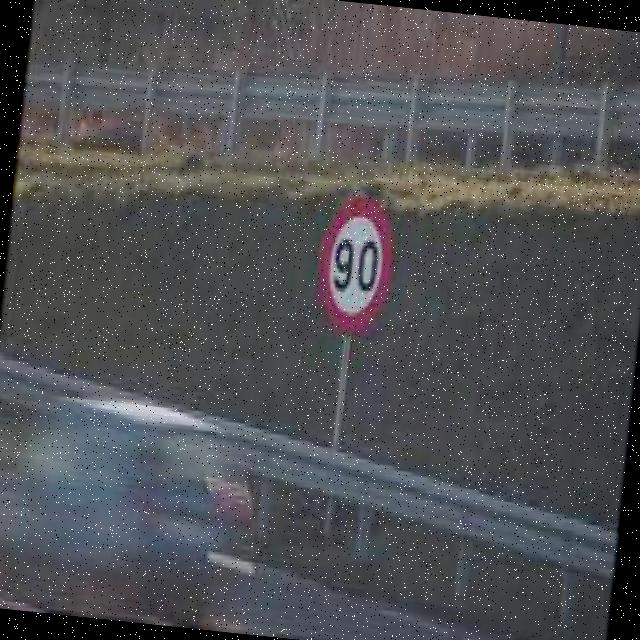Ograniczenie predkosci do 90: (316, 192, 397, 336)
